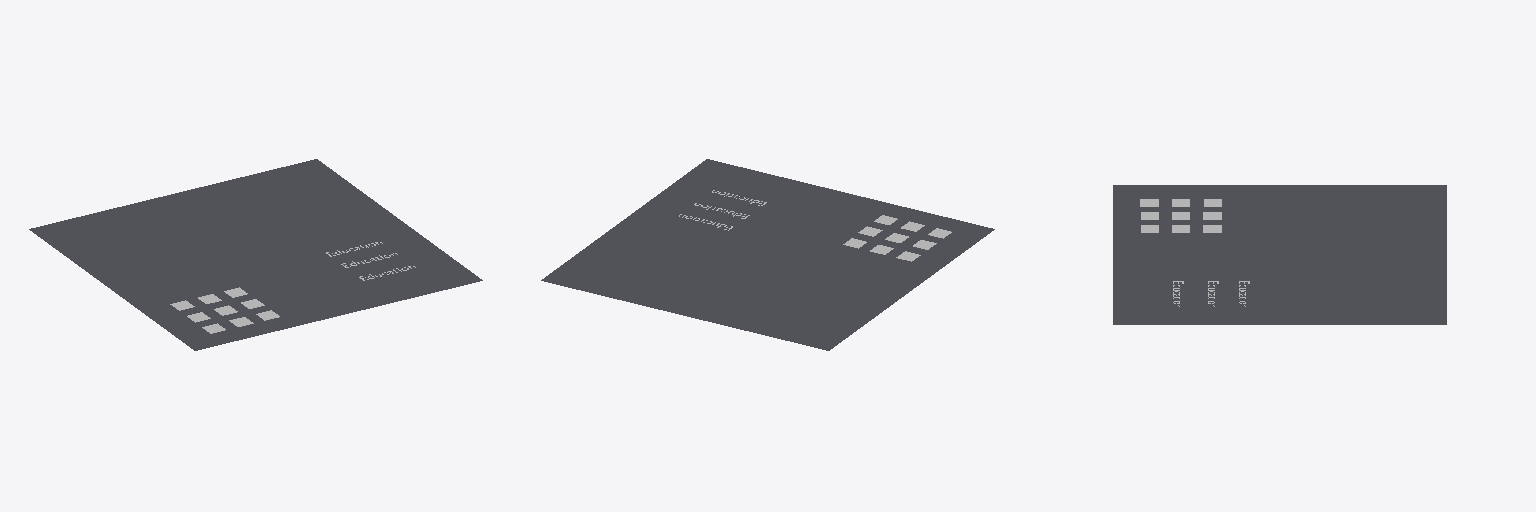
3 renders of one model, left to right at view 1: azimuth 30°, elevation 25°; view 2: azimuth 150°, elevation 25°; view 3: azimuth 270°, elevation 25°, orthographic.
Visible parts, largest first — view 1: Plane; view 2: Plane; view 3: Plane.
Boxes of the visible parts, x1,y1,x2,y2 form: Plane: [29, 159, 482, 350]; Plane: [541, 159, 994, 350]; Plane: [1113, 185, 1446, 324].
Size of the model in its own units: 100 by 0.6888 by 100.